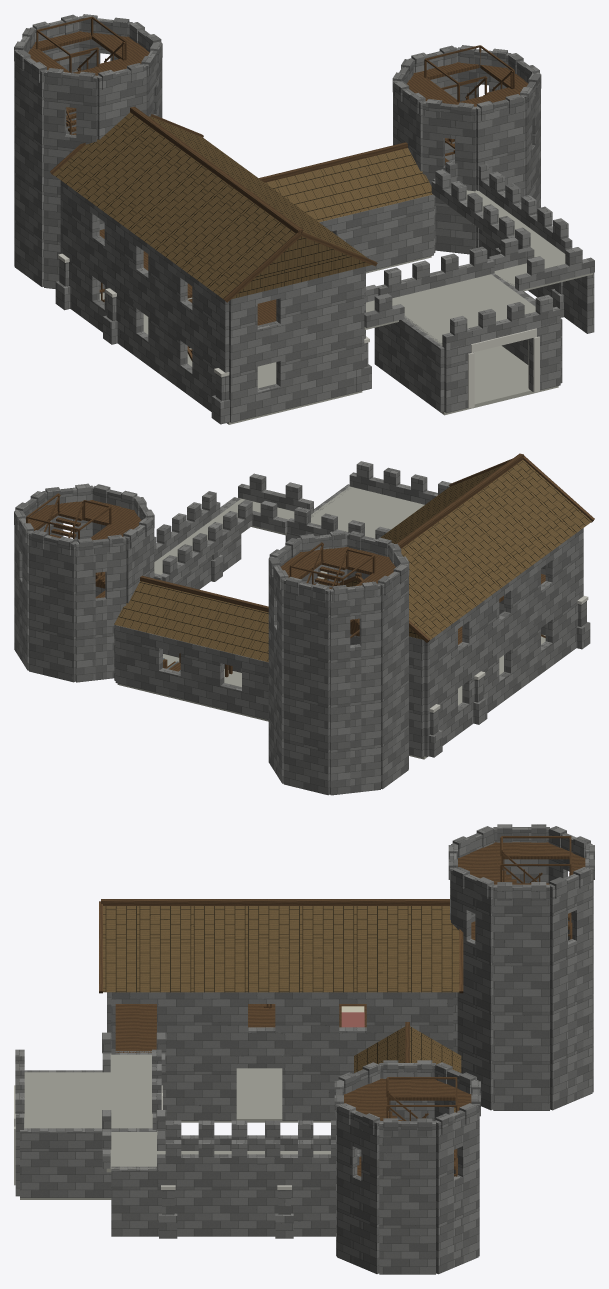
Rendered from keep.glb.
3 renders of one model, top to bottom at view 1: azimuth 30°, elevation 25°; view 2: azimuth 150°, elevation 25°; view 3: azimuth 270°, elevation 25°, orthographic. The views are drawn at different scales.
Visible parts, largest first — view 1: Keep_Shell_2_111, Keep_Roof_3_2, Keep_GroundFront_2_36, Keep_Upper_Wallwalk_1_35, Keep_Roof_3_48, Keep_Upper_Floor_2_4.001, Keep_Roof_3_6, Keep_Floor_1_5, Keep_Upper_Tower_Eastturret_Level2_Floor_1_16, Keep_Upper_Tower_Highwatch_Level3_Floor_1_16, Keep_GroundFront_2_6, Keep_Upper_Floor_2_4 (+1 smaller); view 2: Keep_Shell_2_111, Keep_Roof_3_2, Keep_Upper_Wallwalk_1_35, Keep_Roof_3_48, Keep_Upper_Floor_2_4.001, Keep_Roof_3_6, Keep_Upper_Tower_Eastturret_Level2_Floor_1_16, Keep_Upper_Tower_Highwatch_Level3_Floor_1_16, Keep_Floor_1_5, Keep_Tower_Eastturret_Level2_Stair_1_34, Keep_Tower_Highwatch_Level3_Stair_1_34; view 3: Keep_Shell_2_111, Keep_Roof_3_2, Keep_Upper_Shell_1_17, Keep_Roof_3_48, Keep_Upper_Wallwalk_1_35, Keep_GroundFront_2_36, Keep_Upper_Floor_2_4.001, Keep_Roof_3_6, Keep_Upper_Tower_Eastturret_Level2_Floor_1_16, Keep_Upper_Tower_Highwatch_Level3_Floor_1_16, Keep_Floor_1_5, Keep_Upper_Floor_2_4.
Boxes of the visible parts, <box> form: Keep_Shell_2_111: <box>14,31,594,424</box>; Keep_Roof_3_2: <box>53,112,432,299</box>; Keep_GroundFront_2_36: <box>229,194,560,422</box>; Keep_Upper_Wallwalk_1_35: <box>364,160,594,349</box>; Keep_Roof_3_48: <box>14,14,541,121</box>; Keep_Upper_Floor_2_4.001: <box>364,190,592,345</box>; Keep_Roof_3_6: <box>50,106,407,302</box>; Keep_Floor_1_5: <box>99,256,558,424</box>; Keep_Upper_Tower_Eastturret_Level2_Floor_1_16: <box>407,45,528,106</box>; Keep_Upper_Tower_Highwatch_Level3_Floor_1_16: <box>28,16,149,75</box>; Keep_GroundFront_2_6: <box>468,328,539,408</box>; Keep_Upper_Floor_2_4: <box>99,229,276,325</box>; Keep_Shell_2_111: <box>14,484,590,795</box>; Keep_Roof_3_2: <box>114,460,591,662</box>; Keep_Upper_Wallwalk_1_35: <box>154,461,451,583</box>; Keep_Roof_3_48: <box>14,483,409,602</box>; Keep_Upper_Floor_2_4.001: <box>154,486,424,582</box>; Keep_Roof_3_6: <box>140,453,594,642</box>; Keep_Upper_Tower_Eastturret_Level2_Floor_1_16: <box>26,493,141,540</box>; Keep_Upper_Tower_Highwatch_Level3_Floor_1_16: <box>281,542,395,586</box>; Keep_Floor_1_5: <box>75,571,545,759</box>; Keep_Tower_Eastturret_Level2_Stair_1_34: <box>43,494,105,585</box>; Keep_Tower_Highwatch_Level3_Stair_1_34: <box>306,543,359,633</box>; Keep_Shell_2_111: <box>20,842,593,1274</box>; Keep_Roof_3_2: <box>103,906,461,1112</box>; Keep_Upper_Shell_1_17: <box>111,992,453,1054</box>; Keep_Roof_3_48: <box>334,824,594,1136</box>; Keep_Upper_Wallwalk_1_35: <box>15,1032,359,1170</box>; Keep_GroundFront_2_36: <box>15,992,355,1196</box>; Keep_Upper_Floor_2_4.001: <box>24,1053,330,1172</box>; Keep_Roof_3_6: <box>99,899,463,1062</box>; Keep_Upper_Tower_Eastturret_Level2_Floor_1_16: <box>344,1077,471,1120</box>; Keep_Upper_Tower_Highwatch_Level3_Floor_1_16: <box>458,836,585,884</box>; Keep_Floor_1_5: <box>20,1068,550,1273</box>; Keep_Upper_Floor_2_4: <box>115,1004,366,1052</box>.
Size of the model in its own units: 23.71 by 11.32 by 25.48.
Materials: 9 (3 with a texture image).
